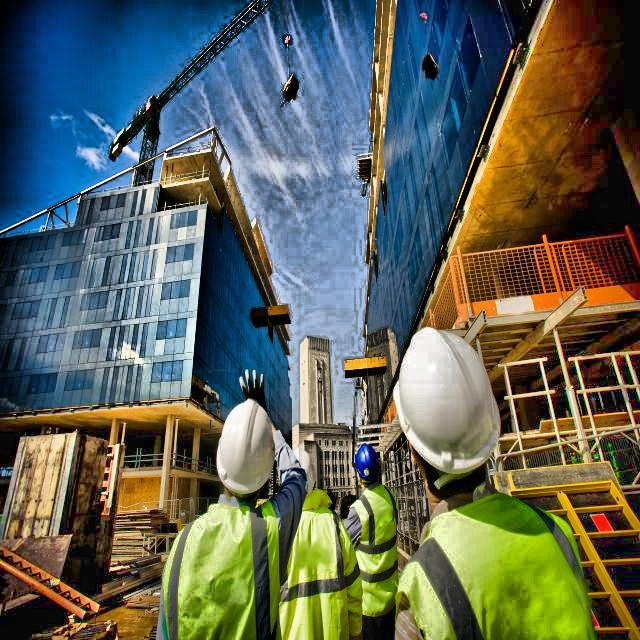person: (390, 310, 600, 640), (166, 395, 294, 640), (281, 452, 357, 640), (340, 434, 404, 640)
